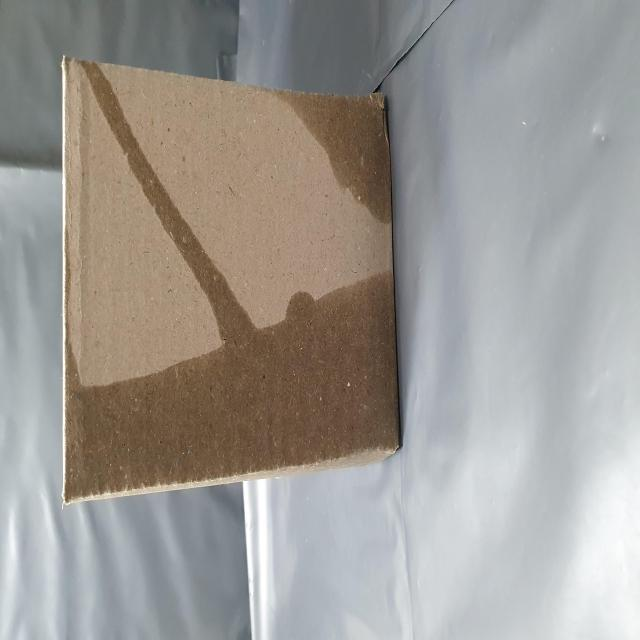wet: (84, 100, 202, 640), (233, 464, 316, 640)
